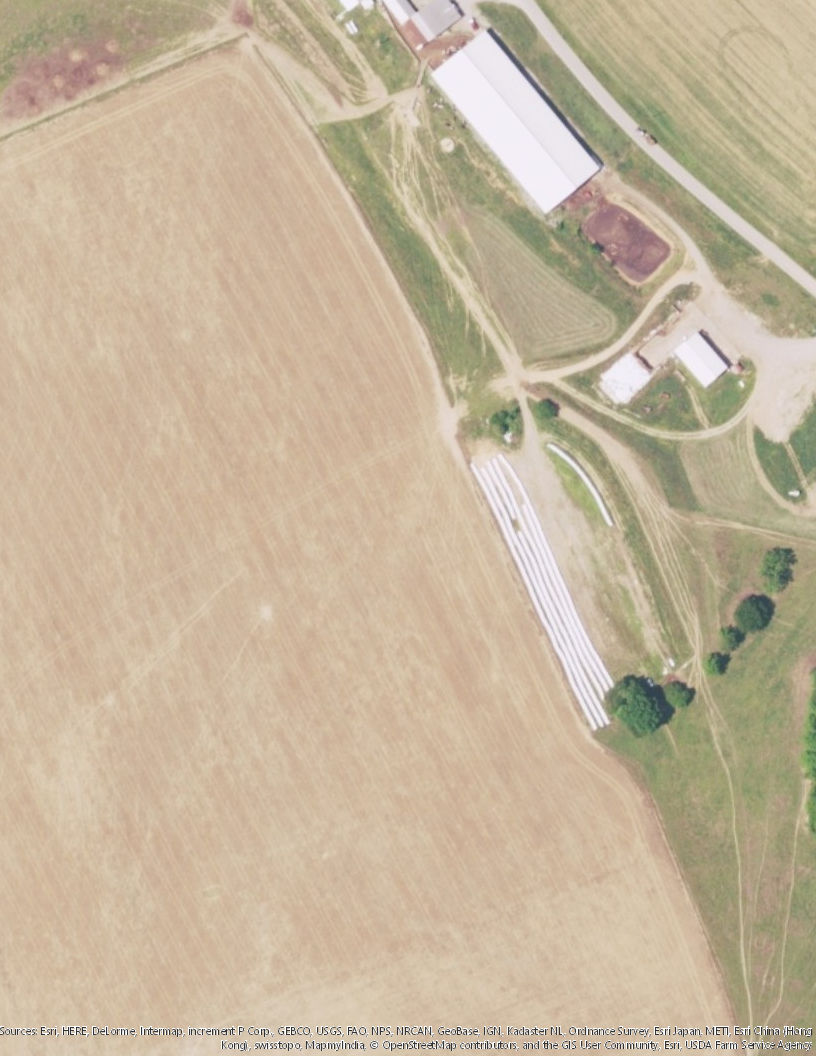cafo: (423, 24, 607, 225)
